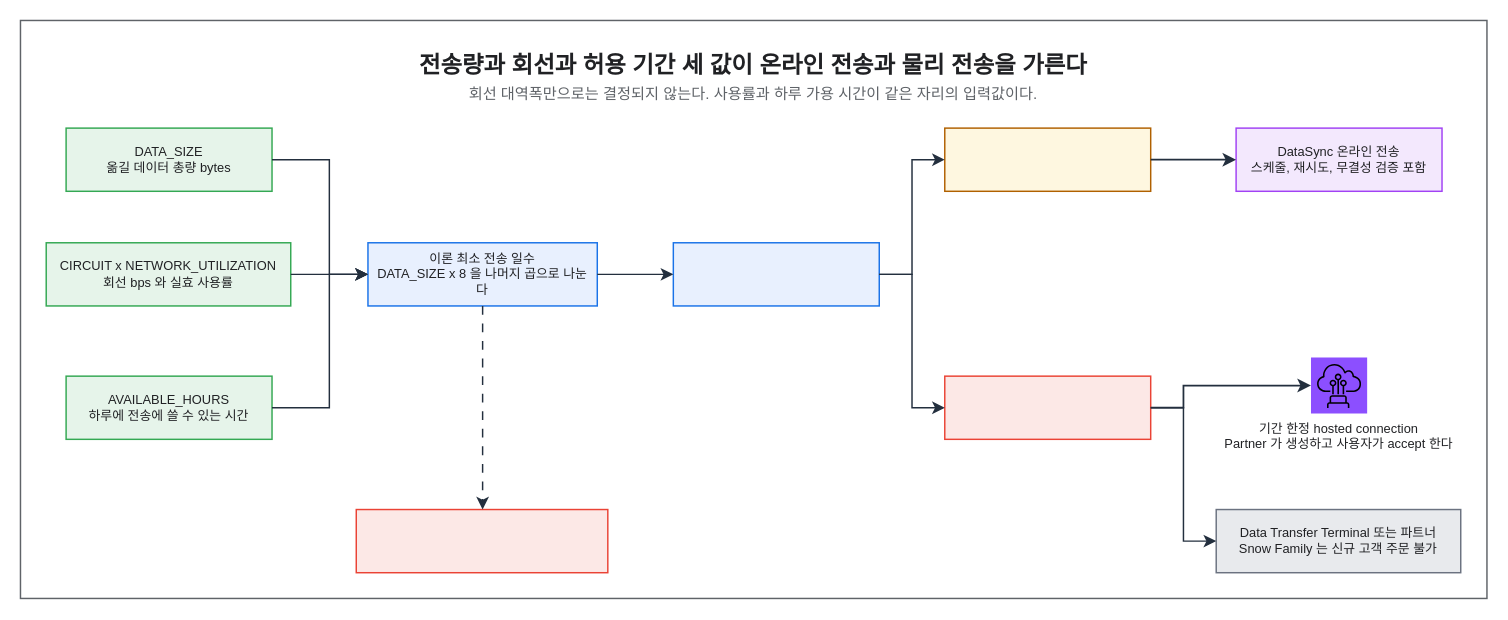
This 1508x620 diagram has some shape labels left out. The shapes that lost their labels are listed below. From the top down, each one's centre as x and y in pixels, then its label:
At pixel 1047 159: "기한 안에 들어온다 현재 회선으로 충분하다".
At pixel 775 273: "허용 기간과 비교 보정한 값이 기한 안에 들어오는가".
At pixel 1047 407: "기한을 넘긴다 회선을 늘리거나 물리 전송으로 간다".
At pixel 481 540: "cutover 시간 보정 대규모 마이그레이션에서 전체의 최대 30% 를 차지한다".
